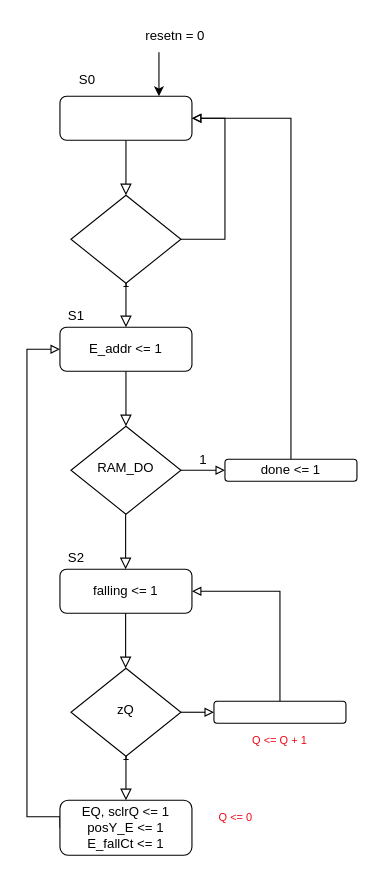
The diagram is 376 pixels wide and 875 high, and some of its shapes have lost their labels. Each missing label, with the box of its shape:
check_fall: (70, 194, 181, 283)
E_addr <= 0 posY_E <= 0 falling <= 0 done <= 0 E_fallCt <= 0: (59, 95, 192, 140)
EQ <= 1: (213, 700, 346, 723)
